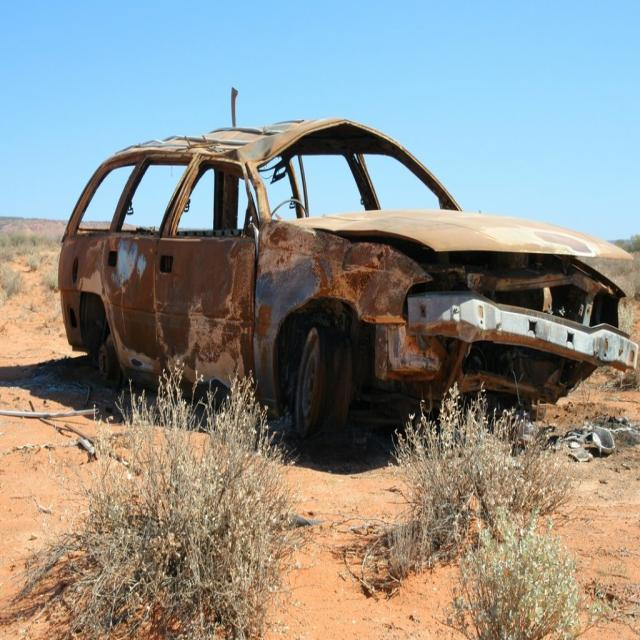car: (58, 112, 639, 463)
